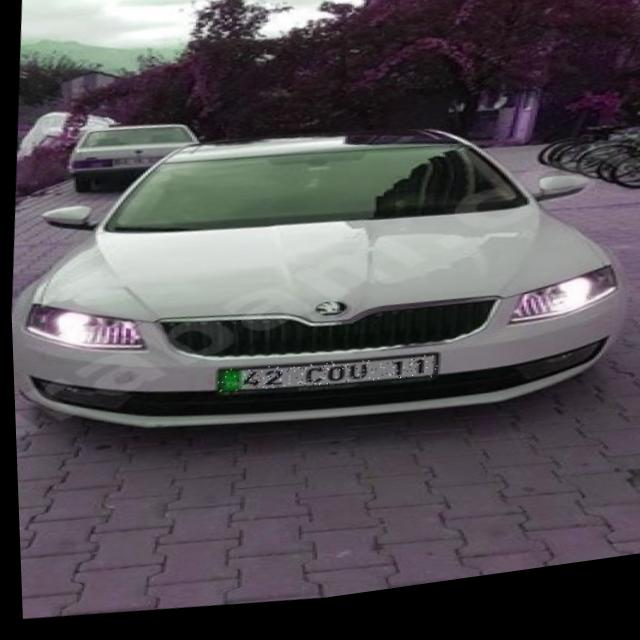license_plate: (213, 351, 435, 413)
